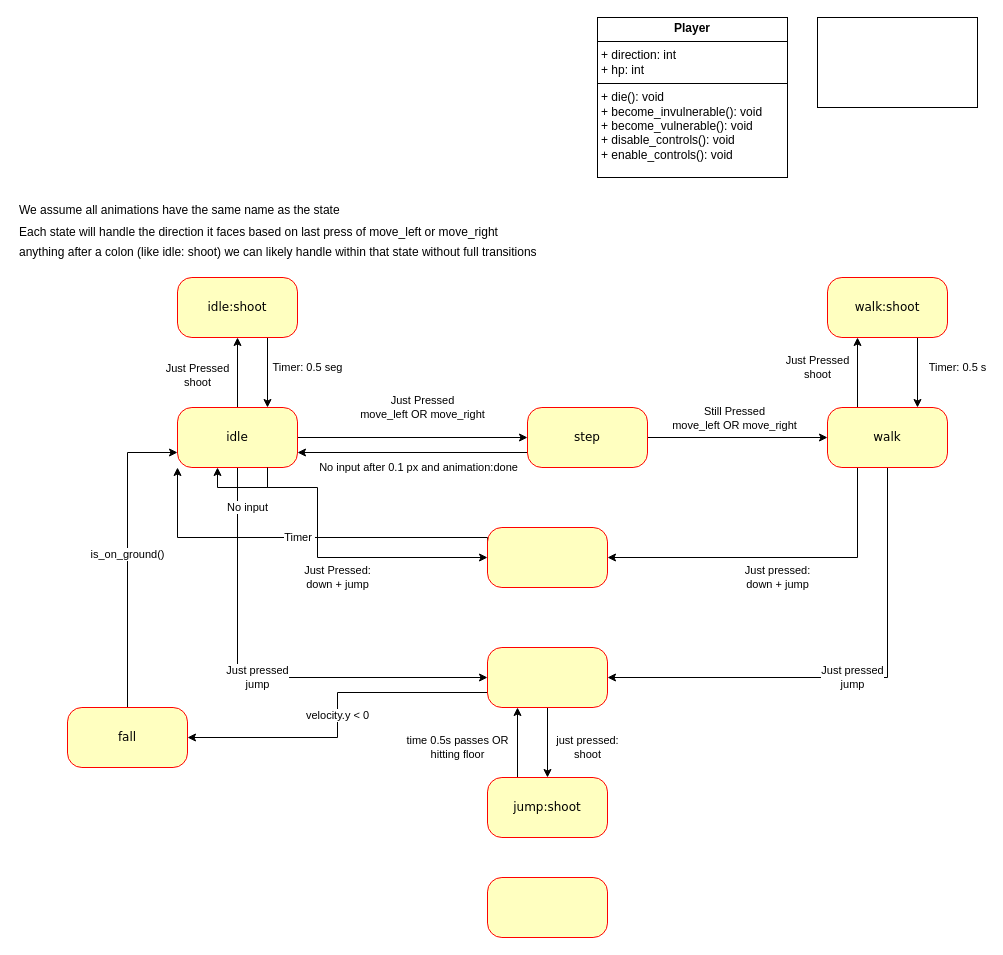
The diagram is 1003 pixels wide and 955 high, and some of its shapes have lost their labels. Each missing label, with the centre of its shape:
"BaseState + animation: int + State: Enum {} +" belongs at point (897, 62).
"damaged" belongs at point (547, 907).
"jump" belongs at point (547, 677).
"slide" belongs at point (547, 557).
